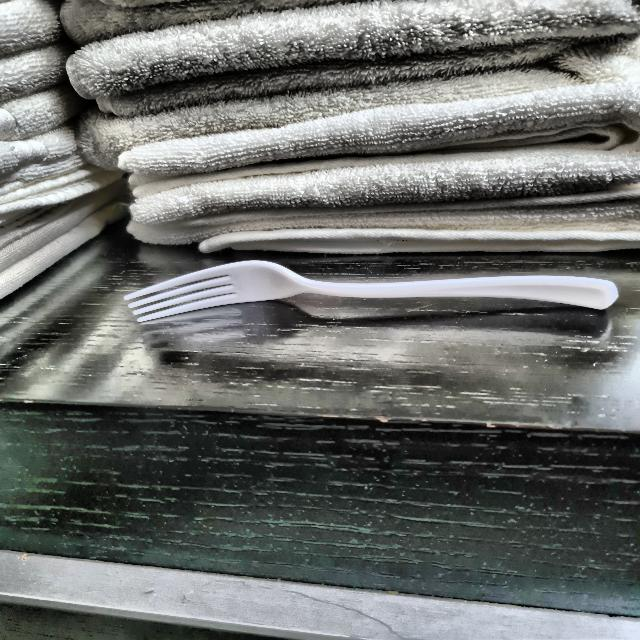plastic utensil: (127, 256, 621, 326)
